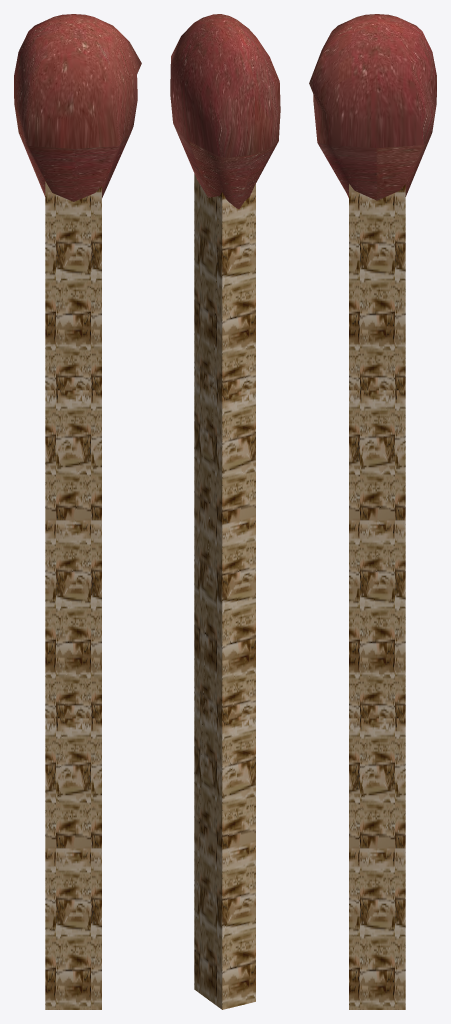
Rendered from Single Match.FBX.
The picture shows the model from 3 angles, left to right: view 1: azimuth 90°, elevation 25°; view 2: azimuth 210°, elevation 25°; view 3: azimuth 270°, elevation 25°; orthographic projection.
Parts seen in each view (by area): view 1: Box001, Capsule001; view 2: Box001, Capsule001; view 3: Box001, Capsule001.
Part boxes in pixels (box(x1,y1,x2,y2)): Box001: box(45, 181, 101, 1009); Capsule001: box(14, 14, 141, 201); Box001: box(194, 174, 255, 1009); Capsule001: box(170, 14, 280, 208); Box001: box(349, 184, 405, 1009); Capsule001: box(309, 14, 436, 200).
Size of the model in its own units: 2.31 by 26.53 by 3.12.
Materials: 2 (2 with a texture image).
